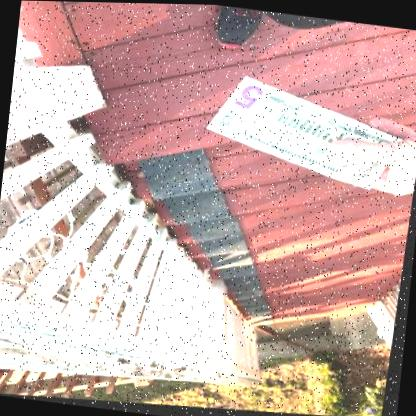dollar_back: (205, 77, 404, 192)
